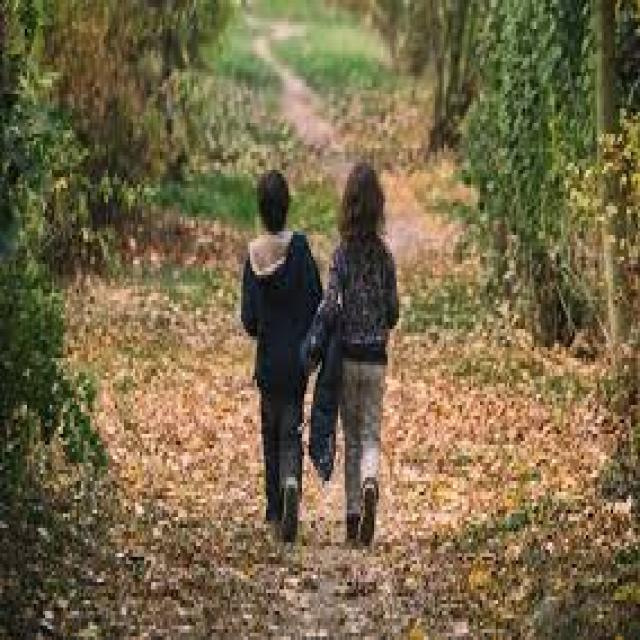Person: (320, 162, 398, 544), (241, 170, 319, 543)
